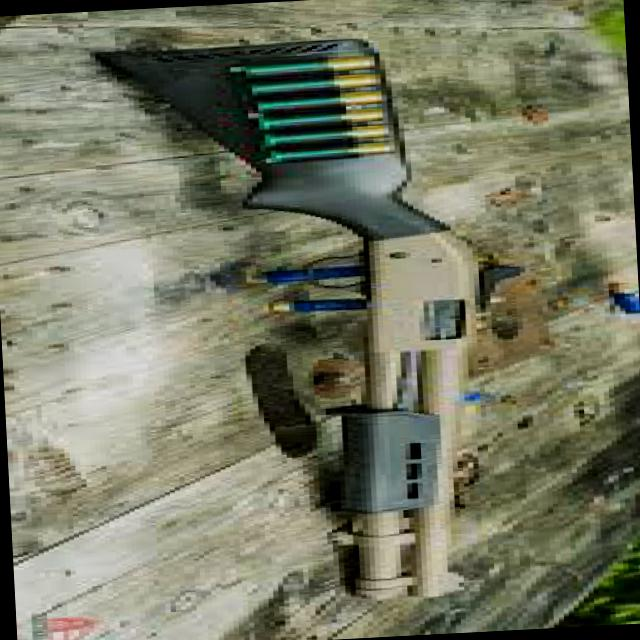long weapon: (99, 34, 500, 607)
